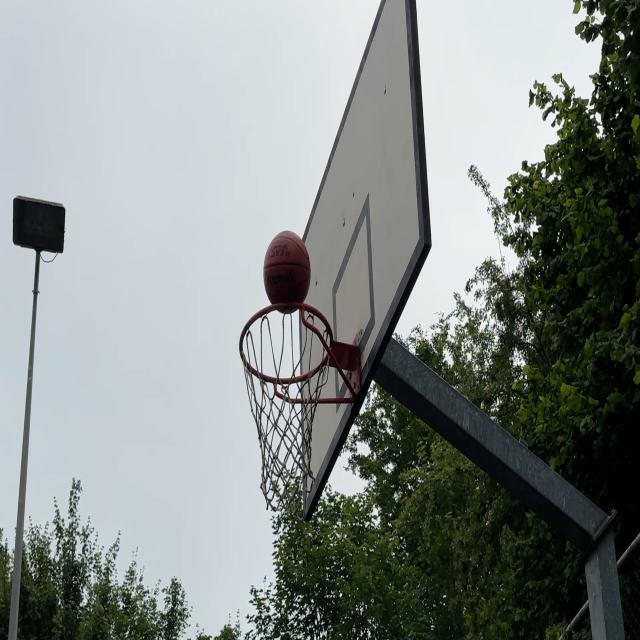rebound_hit: (264, 230, 312, 316)
